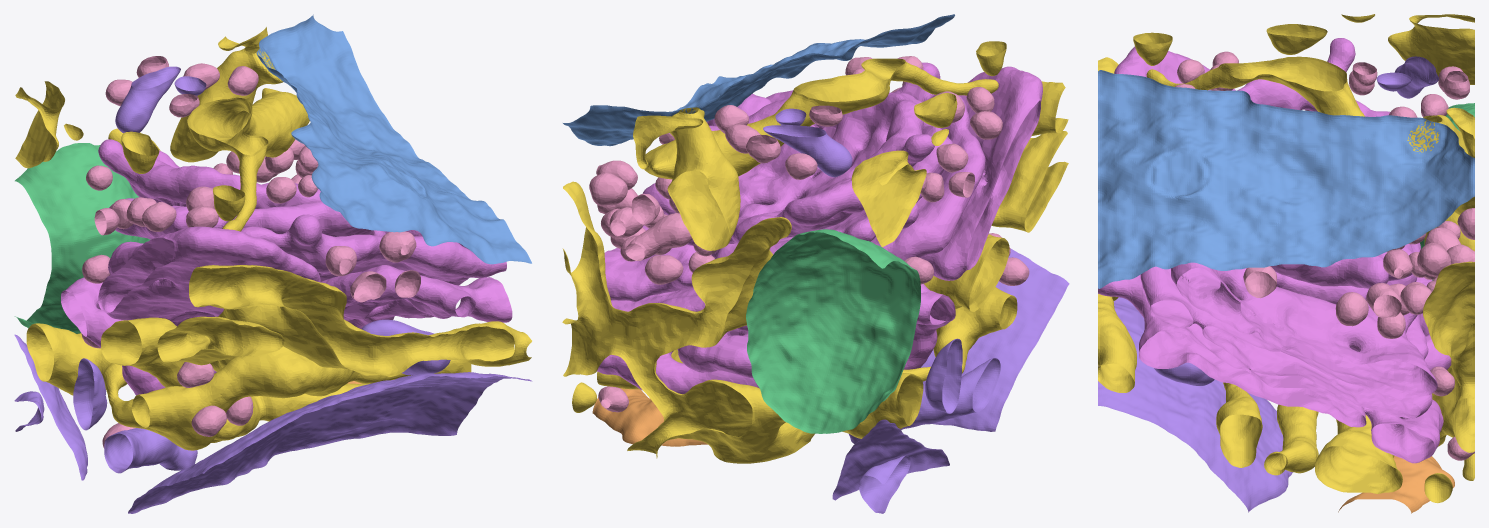
Rendered from liver_organelles_golgi.glb.
3 renders of one model, left to right at view 1: azimuth 30°, elevation 25°; view 2: azimuth 150°, elevation 25°; view 3: azimuth 270°, elevation 25°, orthographic. The views are drawn at different scales.
Visible parts, largest first — view 1: er, golgi, endosome, nucleus, vesicle, mitochondria; view 2: er, golgi, mitochondria, endosome, vesicle, nucleus, lysosome; view 3: nucleus, golgi, er, endosome, vesicle, lysosome.
Boxes of the visible parts, x1,y1,x2,y2 form: er: (15, 27, 531, 450); golgi: (61, 139, 512, 395); endosome: (14, 66, 532, 513); nucleus: (256, 14, 531, 264); vesicle: (81, 56, 420, 448); mitochondria: (14, 143, 150, 333); er: (562, 41, 1068, 463); golgi: (597, 62, 1042, 394); mitochondria: (746, 229, 920, 433); endosome: (763, 108, 1069, 513); vesicle: (589, 56, 1029, 412); nucleus: (563, 14, 954, 146); lysosome: (592, 388, 707, 446); nucleus: (1098, 70, 1474, 288); golgi: (1098, 38, 1451, 463); er: (1098, 14, 1474, 503); endosome: (1098, 56, 1438, 512); vesicle: (1175, 51, 1474, 460); lysosome: (1338, 456, 1454, 513).
Bounding box in the file's own units: 796 × 796 × 796.
